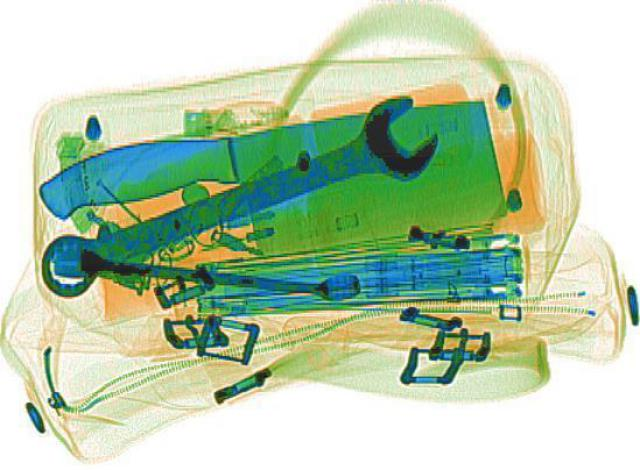Knife: (26, 98, 516, 278)
Wrench: (9, 89, 465, 312)
